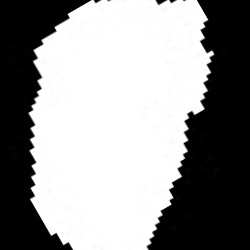spot: (29, 3, 213, 248)
